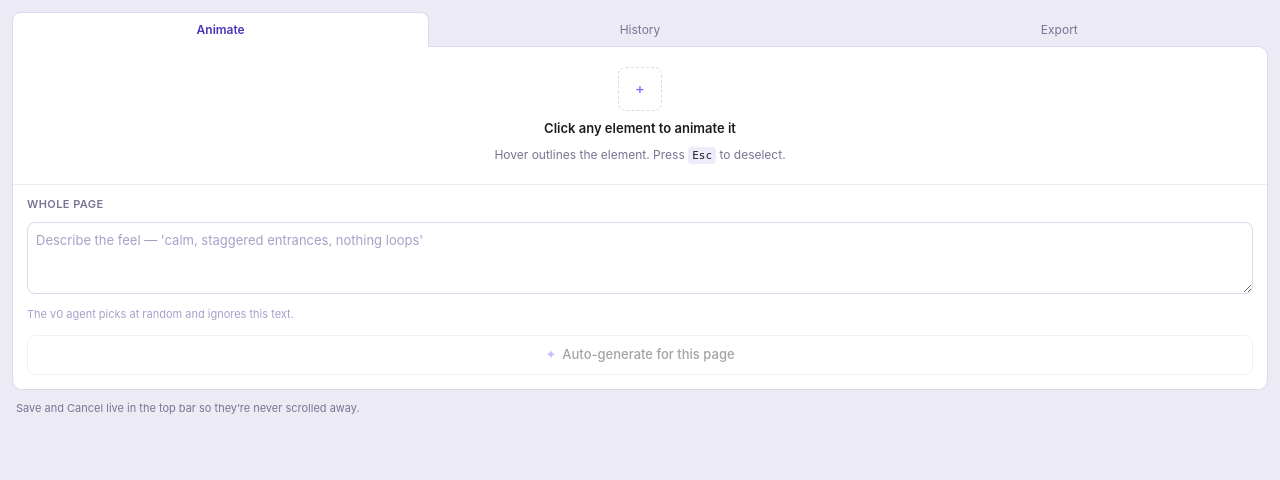
ControlPanel › gives History and Export a caption each when no project is behind the panel
The width and height of the screenshot is (1280, 480).
Click the tab "History".
click(640, 30)  # box [431, 12, 849, 47]
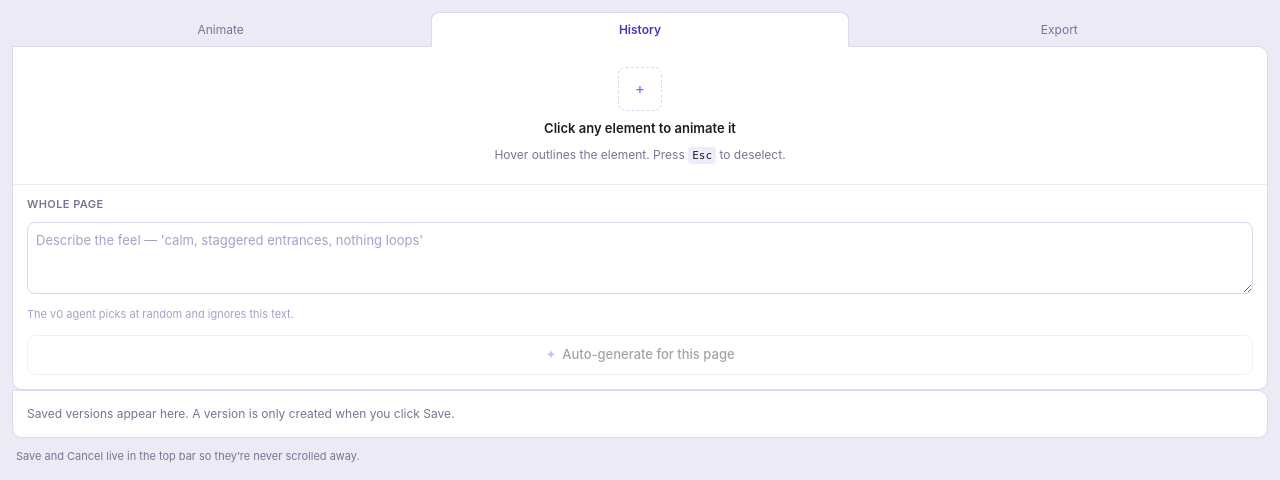
Expected: the text "only created when you click Save" is shown, [27, 406, 454, 421]
Click the tab "Export".
click(1059, 30)  # box [851, 12, 1268, 47]
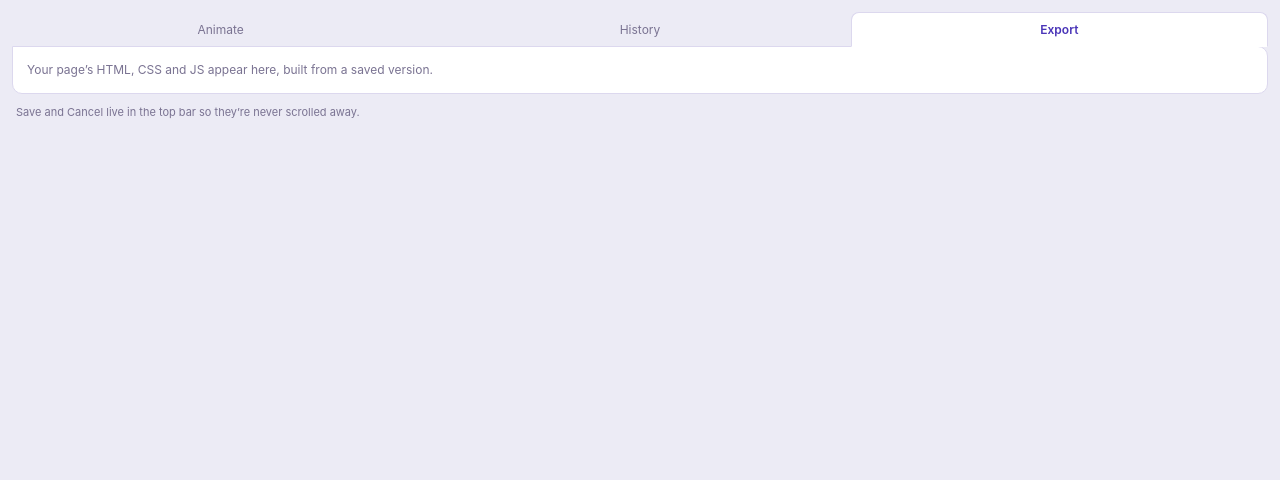
Expected: the text "built from a saved version" is shown, [27, 62, 433, 77]
